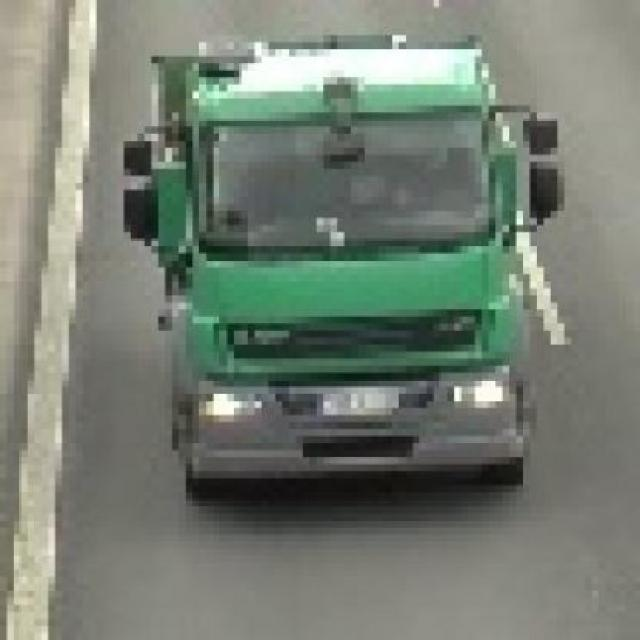truck: (131, 36, 573, 515)
